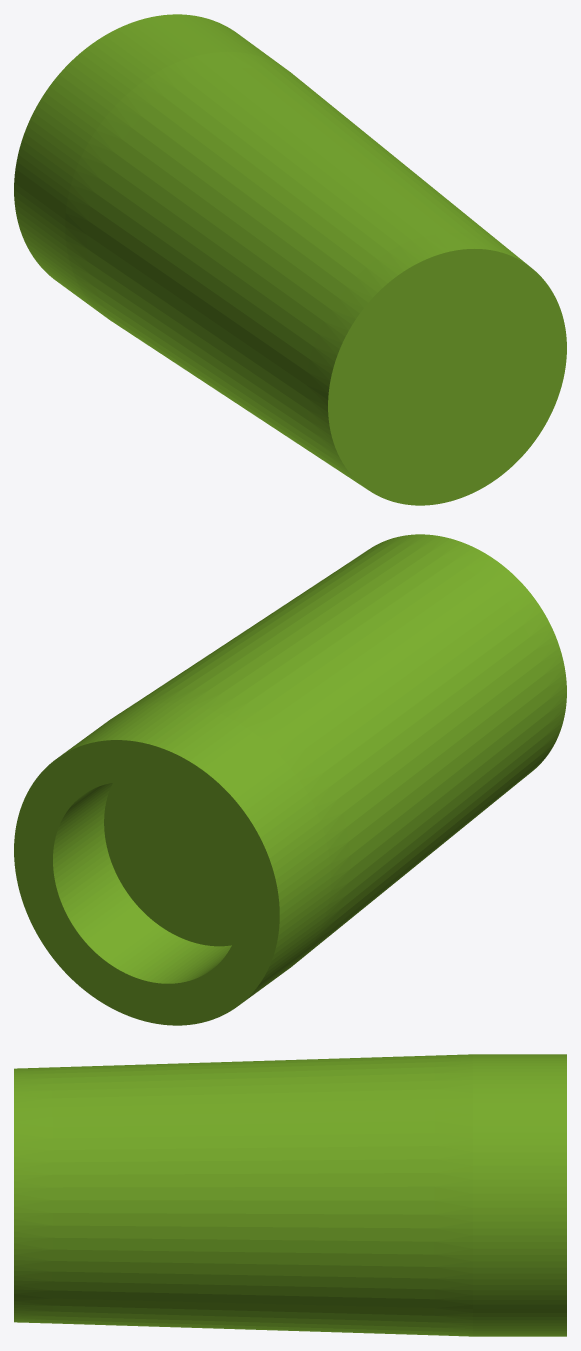
The picture shows the model from 3 angles, top to bottom: view 1: azimuth 30°, elevation 25°; view 2: azimuth 150°, elevation 25°; view 3: azimuth 270°, elevation 25°; orthographic projection. The views are drawn at different scales.
Parts seen in each view (by area): view 1: node; view 2: node; view 3: node.
Part boxes in pixels (x1,y1,x2,y2): node: (14, 14, 566, 505); node: (14, 534, 566, 1025); node: (14, 1054, 566, 1336).
Bounding box in the file's own units: 0.0615 × 0.0615 × 0.1205.
